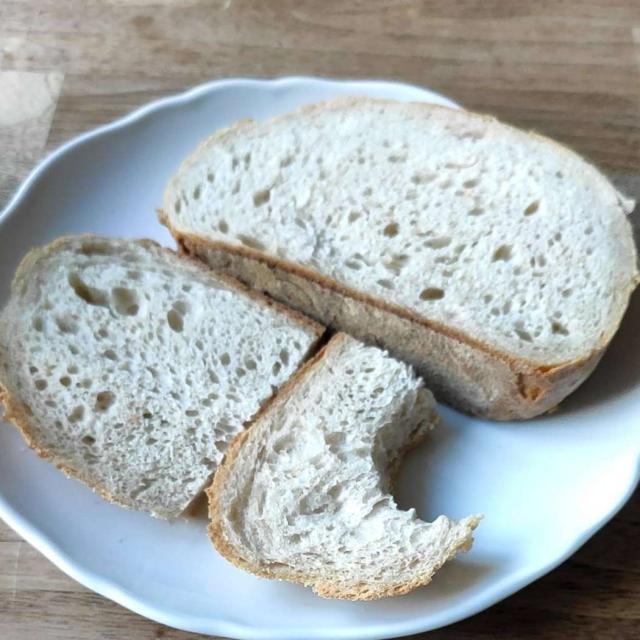bread: (10, 91, 630, 609), (2, 94, 637, 594)
